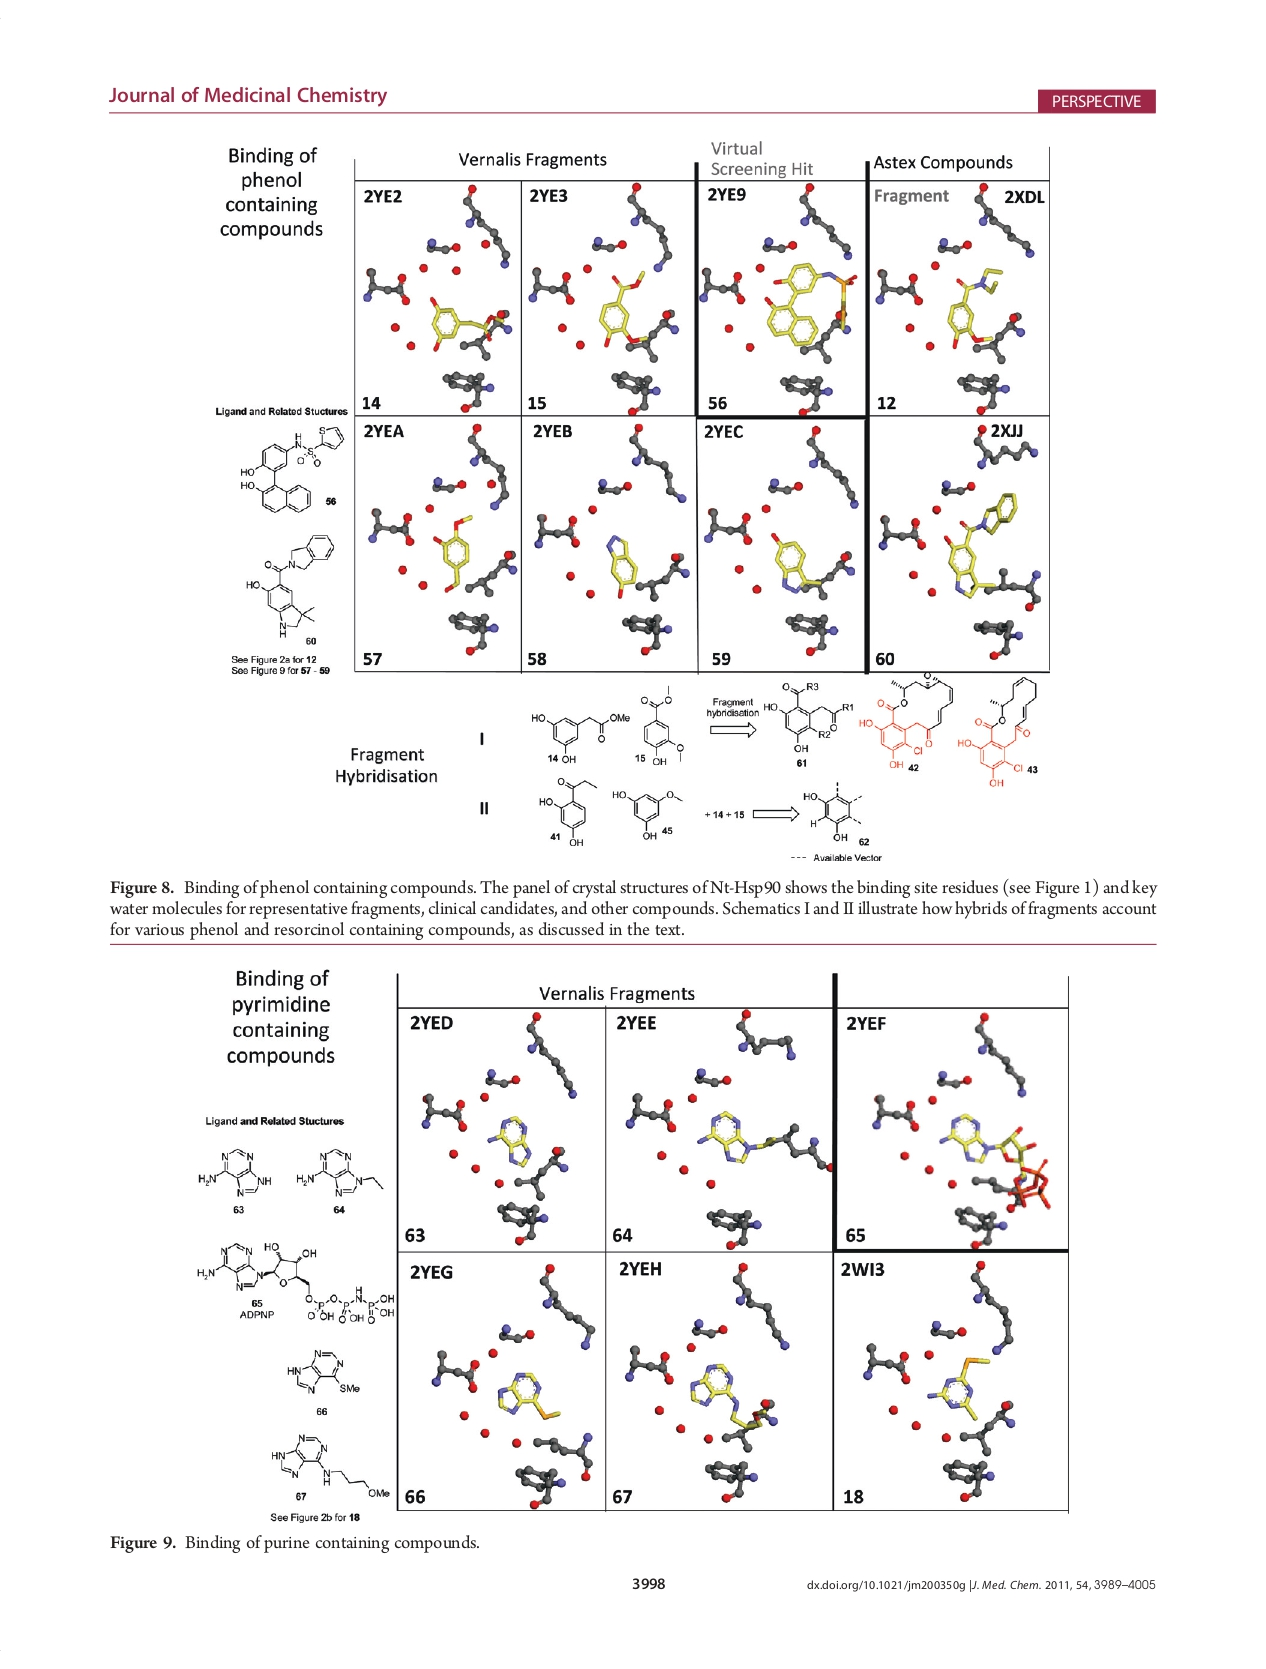exist_molecular: (193, 1239, 398, 1326), (243, 531, 336, 641), (235, 424, 344, 517), (858, 672, 953, 773), (956, 676, 1041, 789), (269, 1432, 394, 1501), (761, 680, 854, 755), (527, 709, 632, 763), (293, 1145, 386, 1200), (285, 1345, 364, 1400), (539, 777, 598, 850), (638, 684, 688, 770), (799, 779, 864, 844), (194, 1146, 273, 1200), (610, 787, 684, 842)
